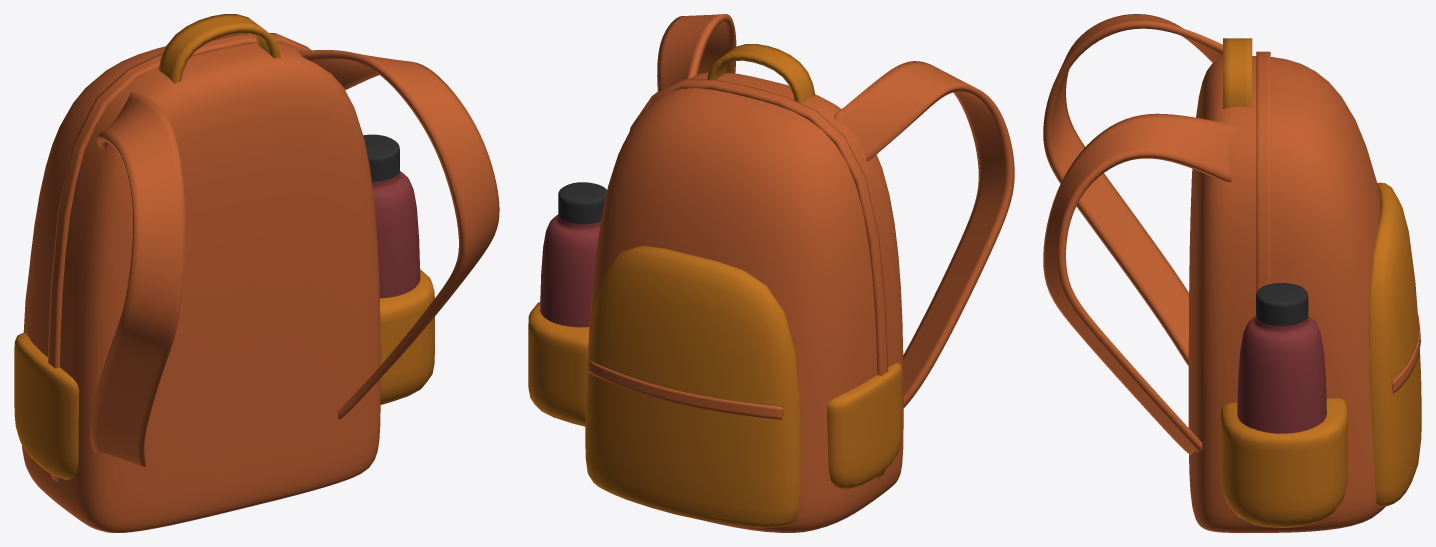
The model's file is backpack.fbx.
3 views of the same model, side by side, from view 1: azimuth 30°, elevation 25°; view 2: azimuth 150°, elevation 25°; view 3: azimuth 270°, elevation 25° (orthographic). The views are drawn at different scales.
Parts seen in each view (by area): view 1: Backpack; view 2: Backpack; view 3: Backpack.
Part boxes in pixels (x1,y1,x2,y2): Backpack: (14,14,499,532); Backpack: (528,14,1014,532); Backpack: (1043,14,1421,532).
Bounding box in the file's own units: 61.4 × 66.41 × 52.56.
